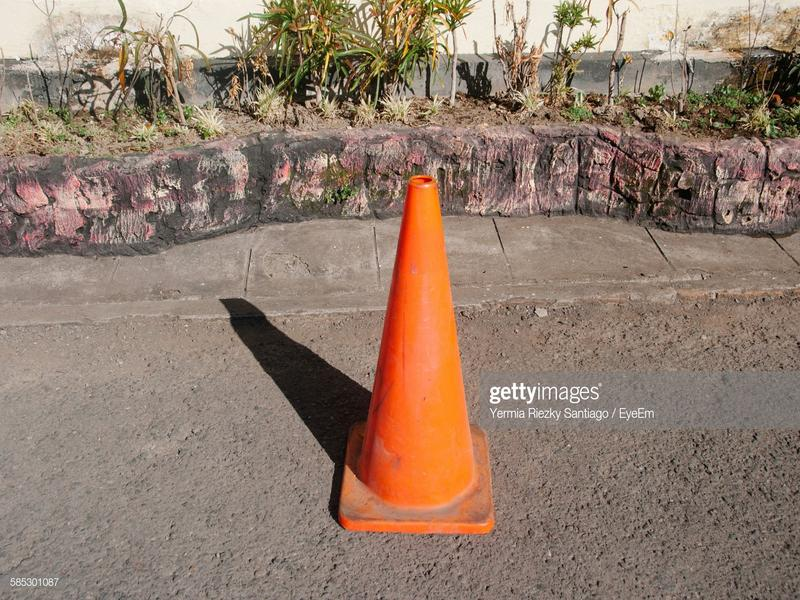Cone: (338, 176, 496, 535)
